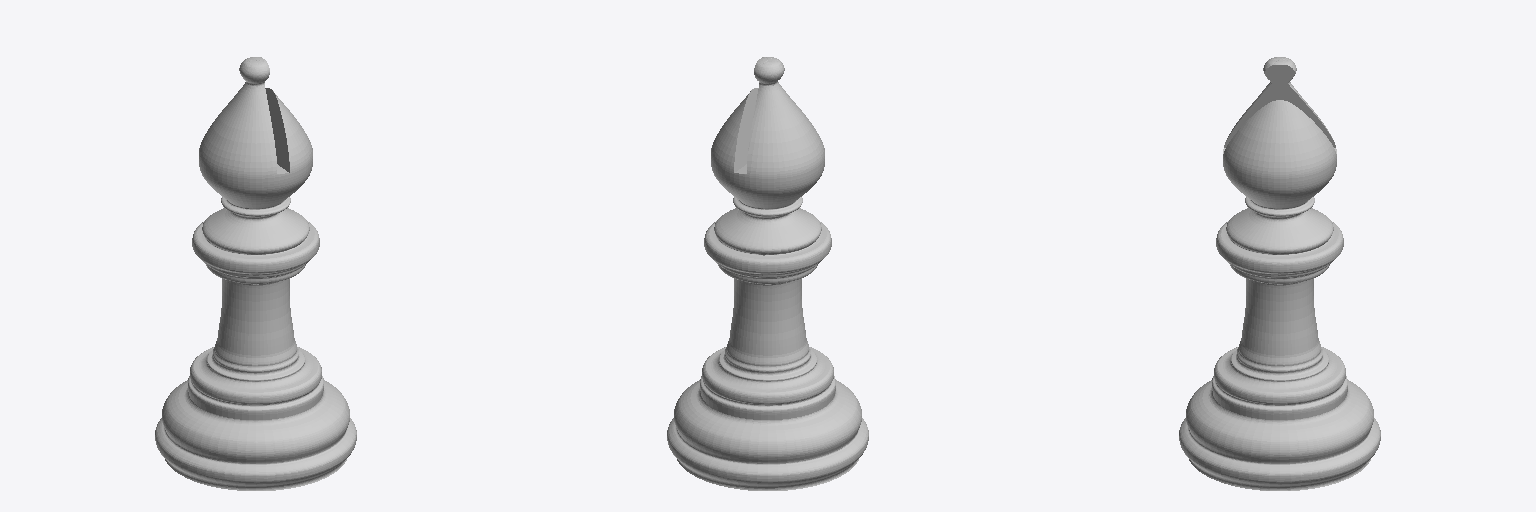
File: bishop.obj
3 views of the same model, side by side, from view 1: azimuth 30°, elevation 25°; view 2: azimuth 150°, elevation 25°; view 3: azimuth 270°, elevation 25° (orthographic).
Parts seen in each view (by area): view 1: Chess_White_Bishops1_Bishop_21; view 2: Chess_White_Bishops1_Bishop_21; view 3: Chess_White_Bishops1_Bishop_21.
Boxes of the visible parts, x1=… form: Chess_White_Bishops1_Bishop_21: x1=155, y1=57, x2=356, y2=490; Chess_White_Bishops1_Bishop_21: x1=667, y1=57, x2=868, y2=490; Chess_White_Bishops1_Bishop_21: x1=1179, y1=57, x2=1380, y2=490.
Bounding box in the file's own units: 0.7427 × 1.59 × 0.7427.